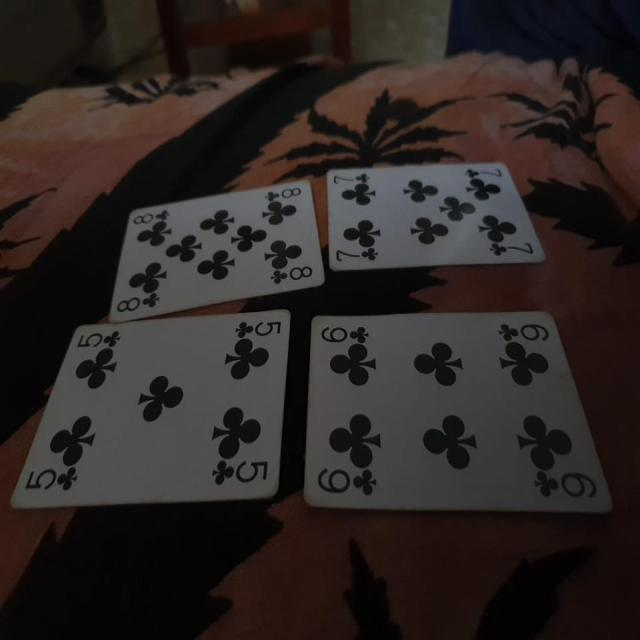5 of clubs: (8, 304, 292, 512)
6 of clubs: (299, 308, 615, 514)
7 of clubs: (326, 158, 547, 273)
8 of clubs: (108, 178, 326, 326)
